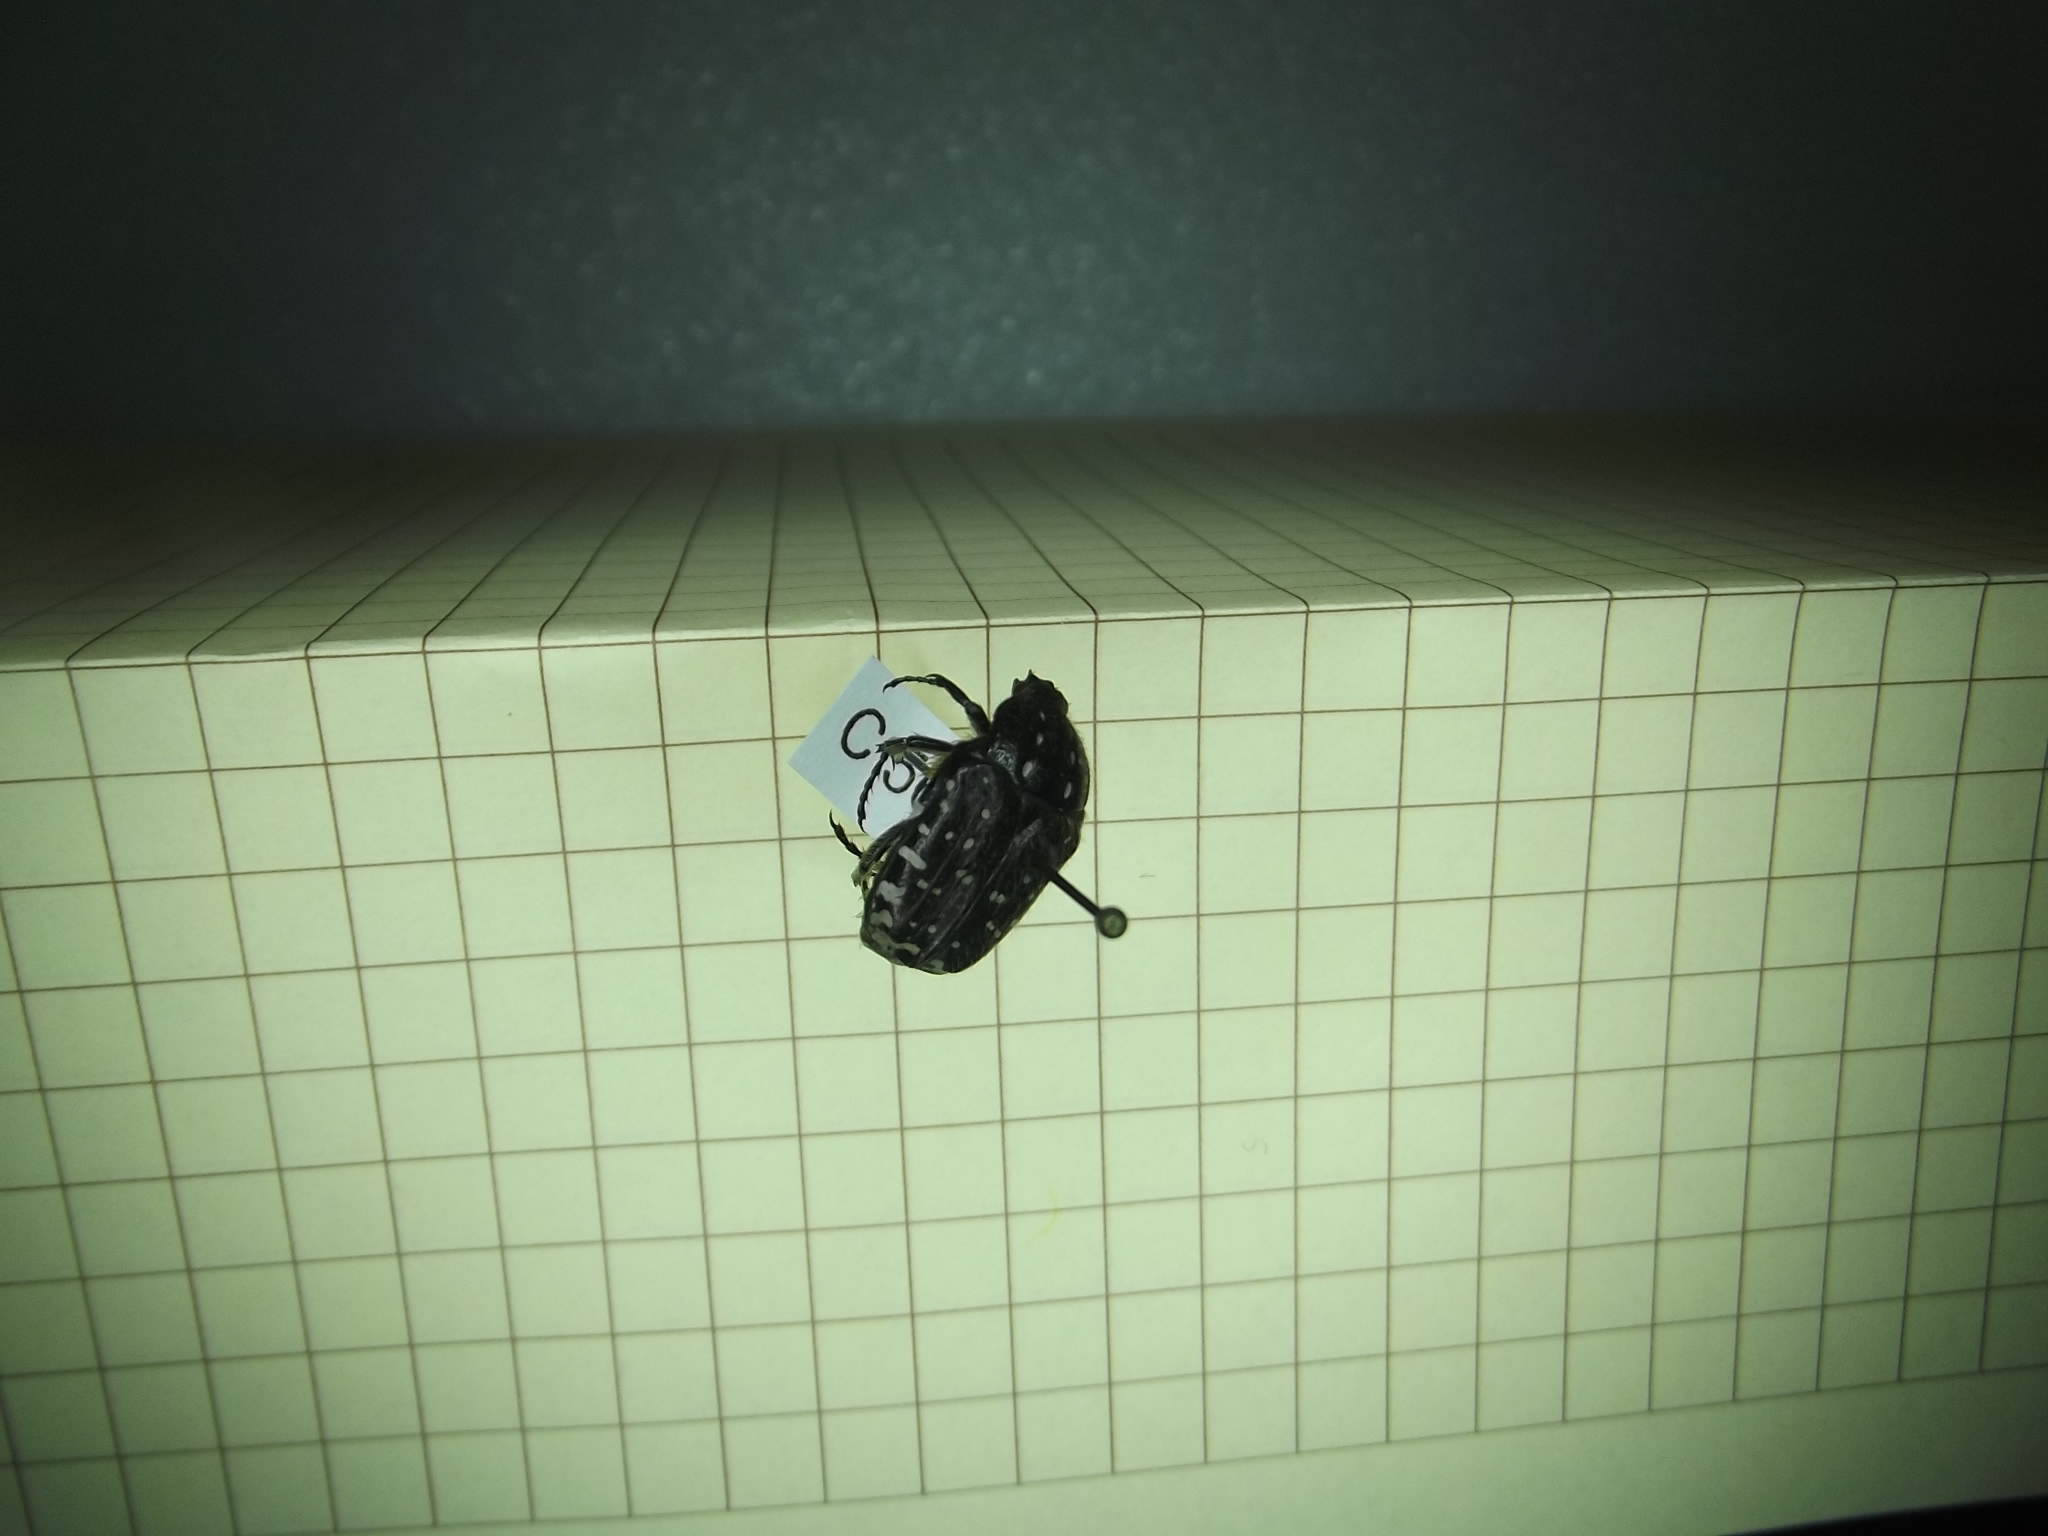Oxythyrea_funesta: (822, 649, 1108, 987)
